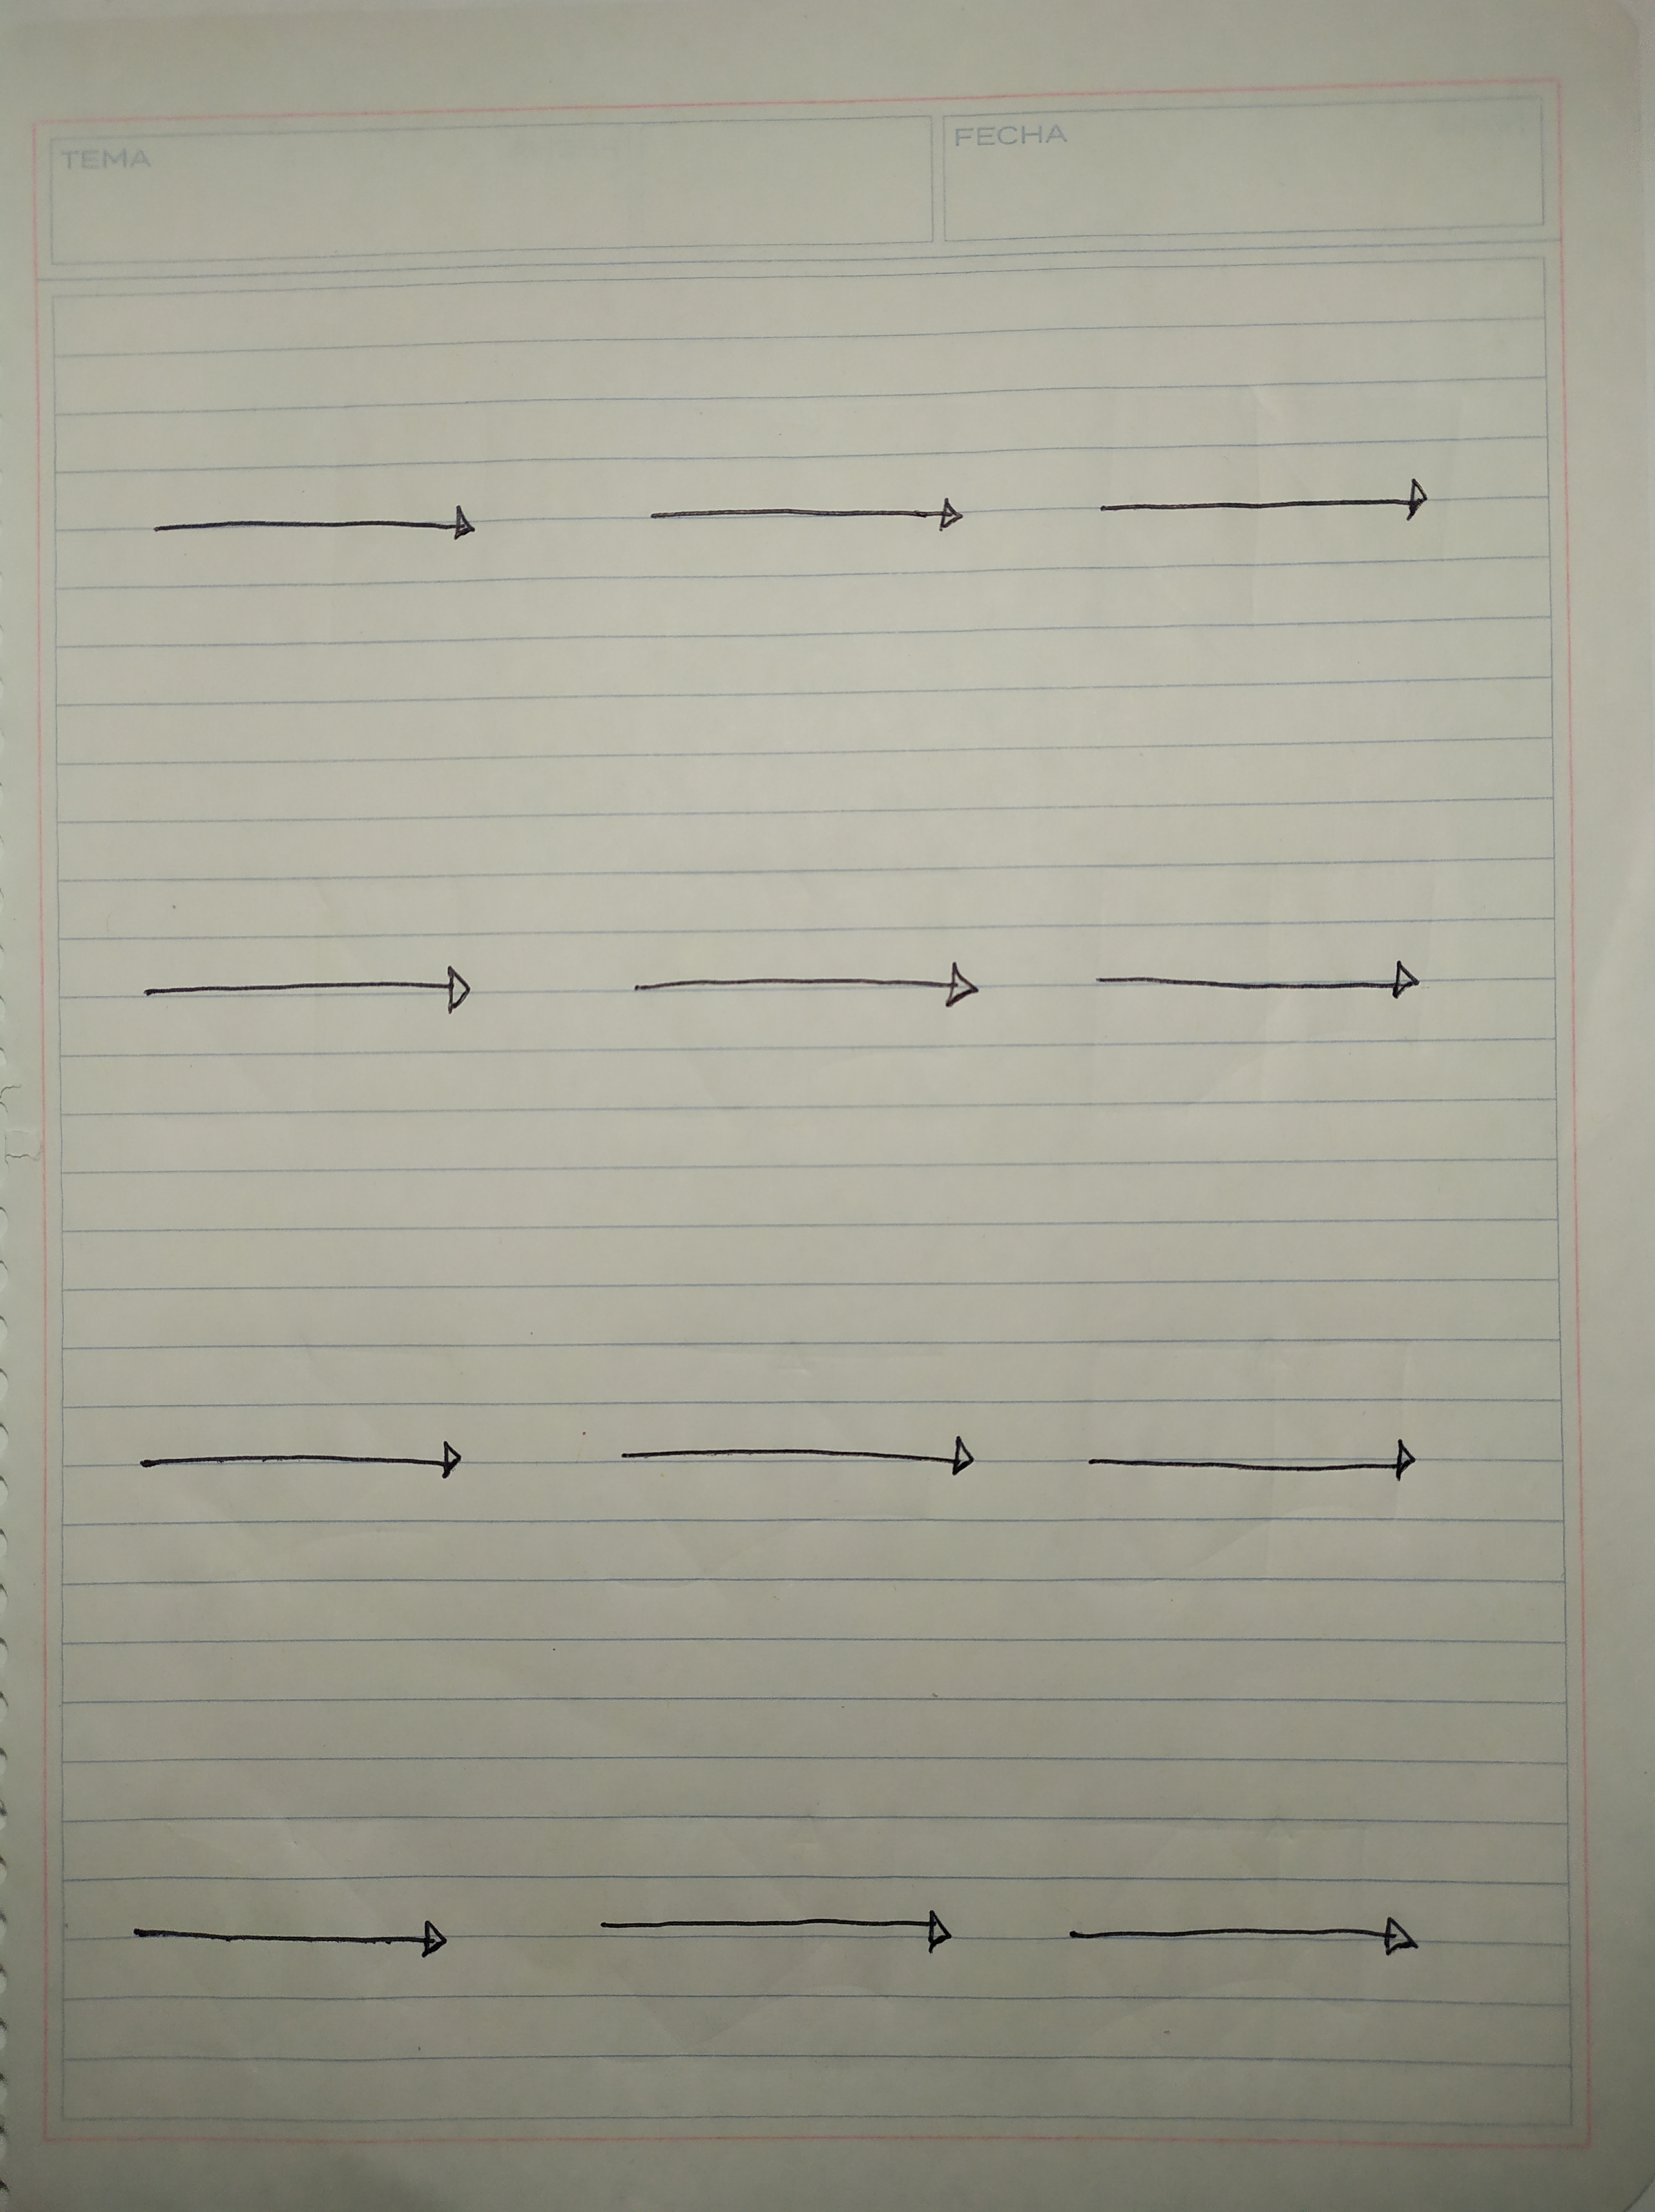arrow_line_right: (572, 933, 1047, 1044), (103, 935, 494, 1039), (1071, 462, 1466, 558), (589, 1407, 989, 1501), (575, 1887, 975, 1979), (115, 476, 497, 572), (115, 1889, 478, 1986), (129, 1401, 476, 1501), (1033, 1882, 1455, 1964), (1053, 1414, 1434, 1505), (1067, 942, 1460, 1020), (629, 480, 1005, 558)
